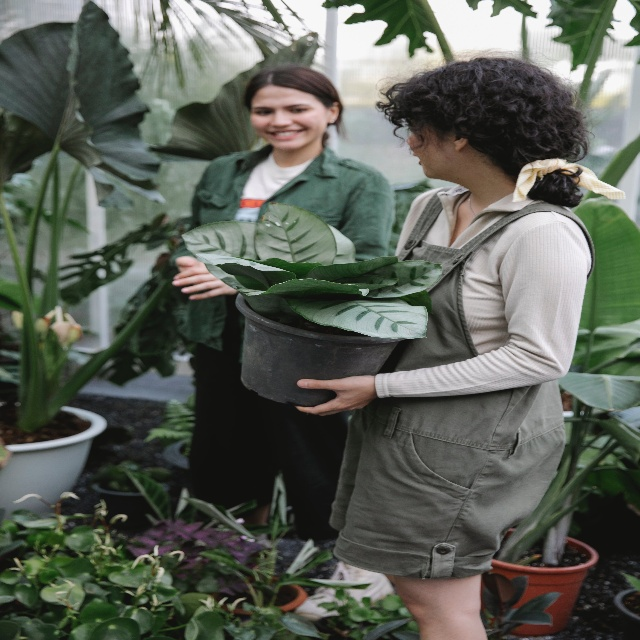Sin_guantes: (294, 374, 376, 417), (171, 263, 237, 300)
